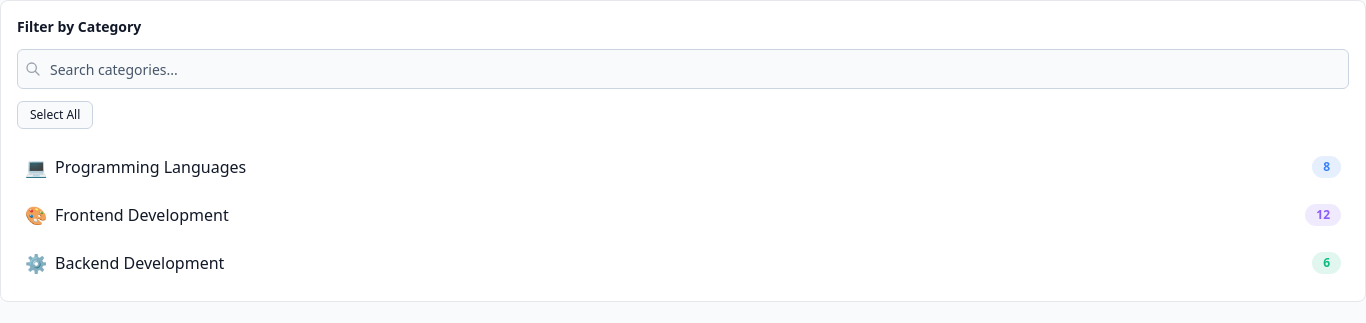
Test case: CategoryFilter › shows empty state when no categories match search
Type "nonexistent" into the field with placeholder "Search categories..." at (683, 69), box [17,49,1349,89]
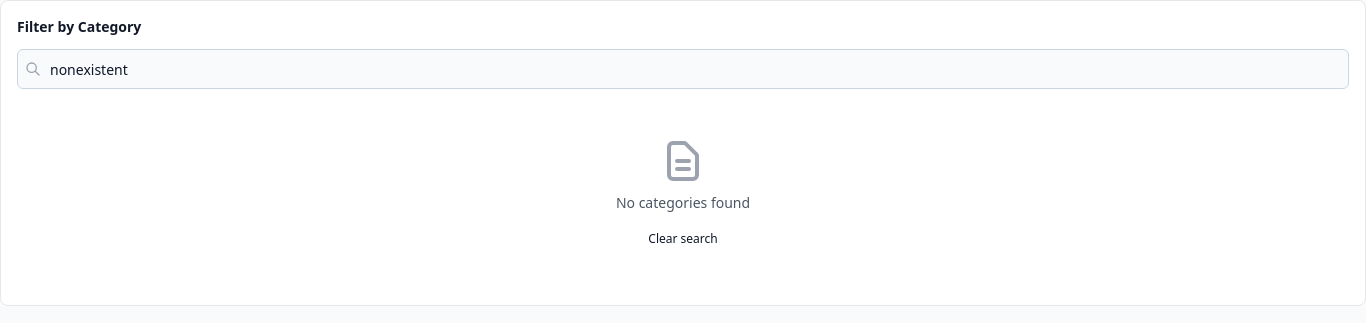
Expected: the text "No categories found" is shown, [616,193,750,212]
Expected: the button "Clear search" is shown, [636,221,730,257]
